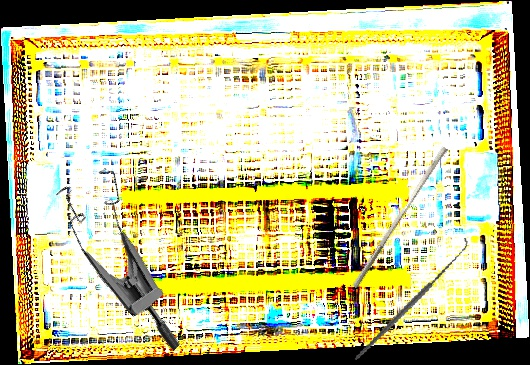Hook Surgical: (331, 237, 490, 361)
Pusher: (351, 143, 449, 292)
Speculum: (30, 153, 236, 353)
